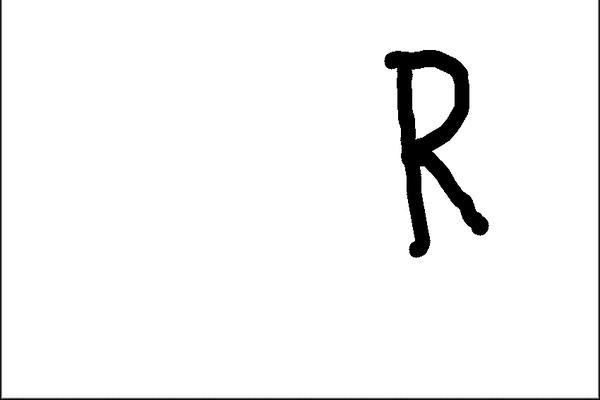R: (378, 44, 497, 259)
